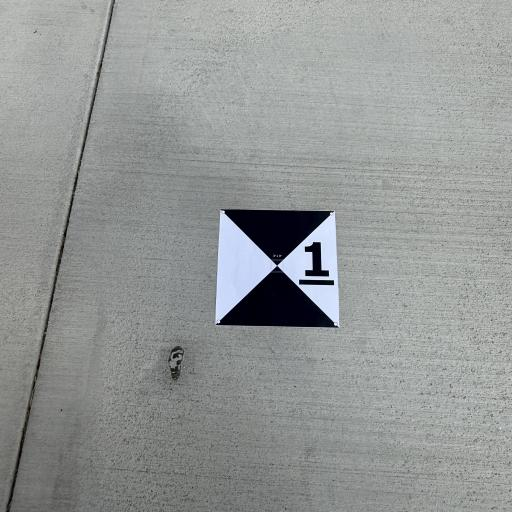target1: (214, 201, 345, 337)
